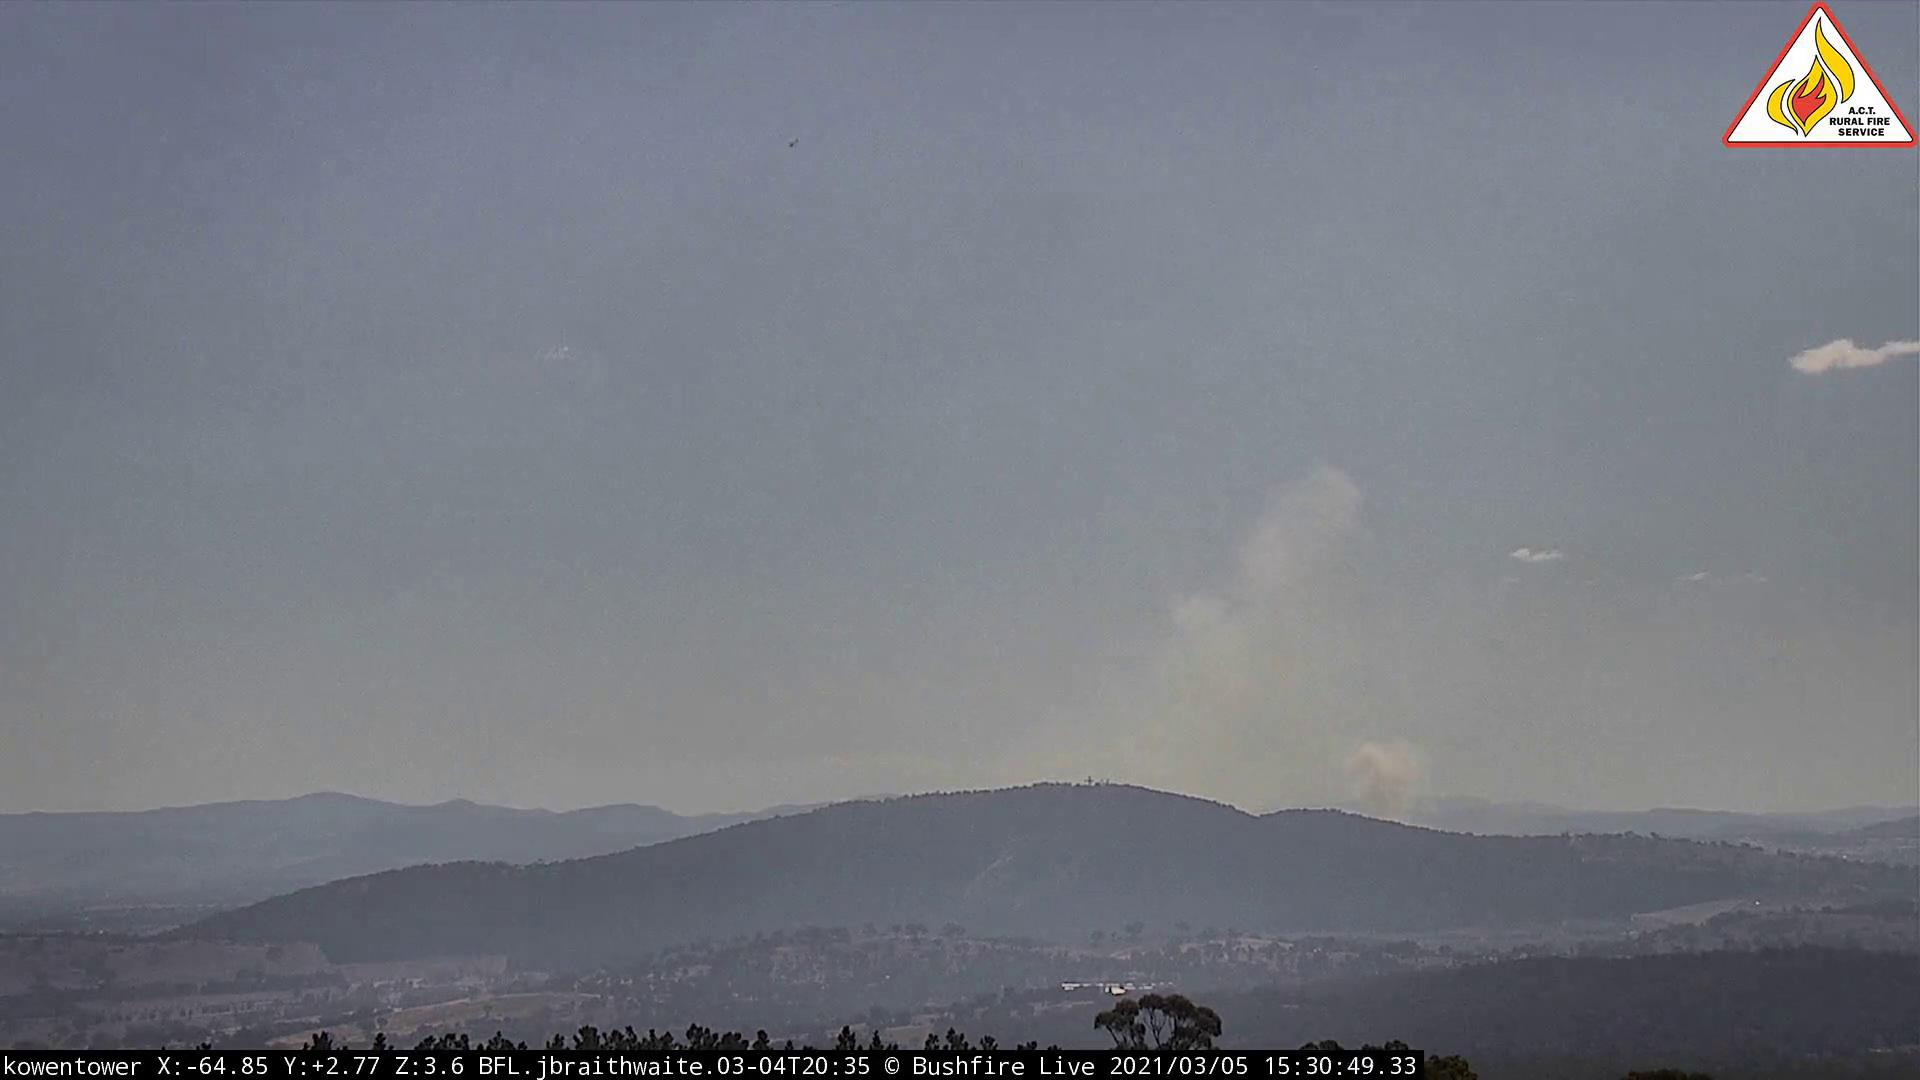Smoke: (1021, 444, 1443, 837)
